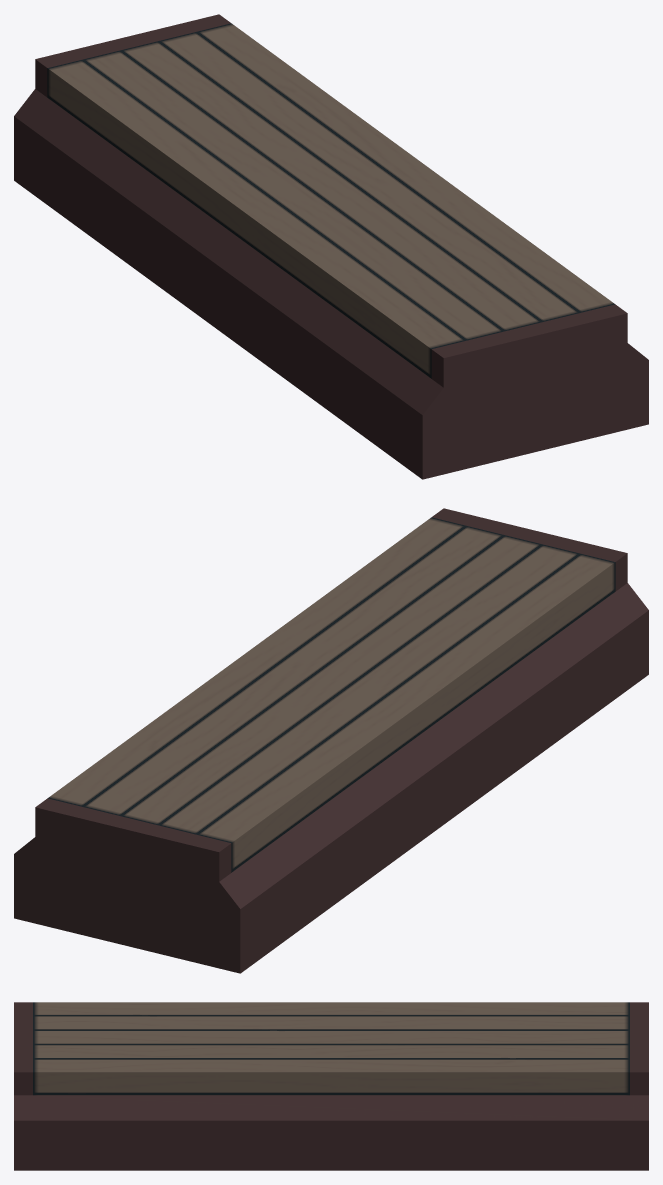
Rendered from SW_ENV_EL_TrackBase_Walkway_Central_5m.fbx.
The picture shows the model from 3 angles, top to bottom: view 1: azimuth 30°, elevation 25°; view 2: azimuth 150°, elevation 25°; view 3: azimuth 270°, elevation 25°; orthographic projection. The views are drawn at different scales.
Visible parts, largest first — view 1: SW_ENV_EL_TrackBase_Walkway_Central_5m; view 2: SW_ENV_EL_TrackBase_Walkway_Central_5m; view 3: SW_ENV_EL_TrackBase_Walkway_Central_5m.
Part boxes in pixels (bbox=[...]): SW_ENV_EL_TrackBase_Walkway_Central_5m: bbox=[14, 14, 648, 479]; SW_ENV_EL_TrackBase_Walkway_Central_5m: bbox=[14, 508, 648, 973]; SW_ENV_EL_TrackBase_Walkway_Central_5m: bbox=[14, 1002, 648, 1170].
Size of the model in its own units: 160 by 78.5 by 500.
